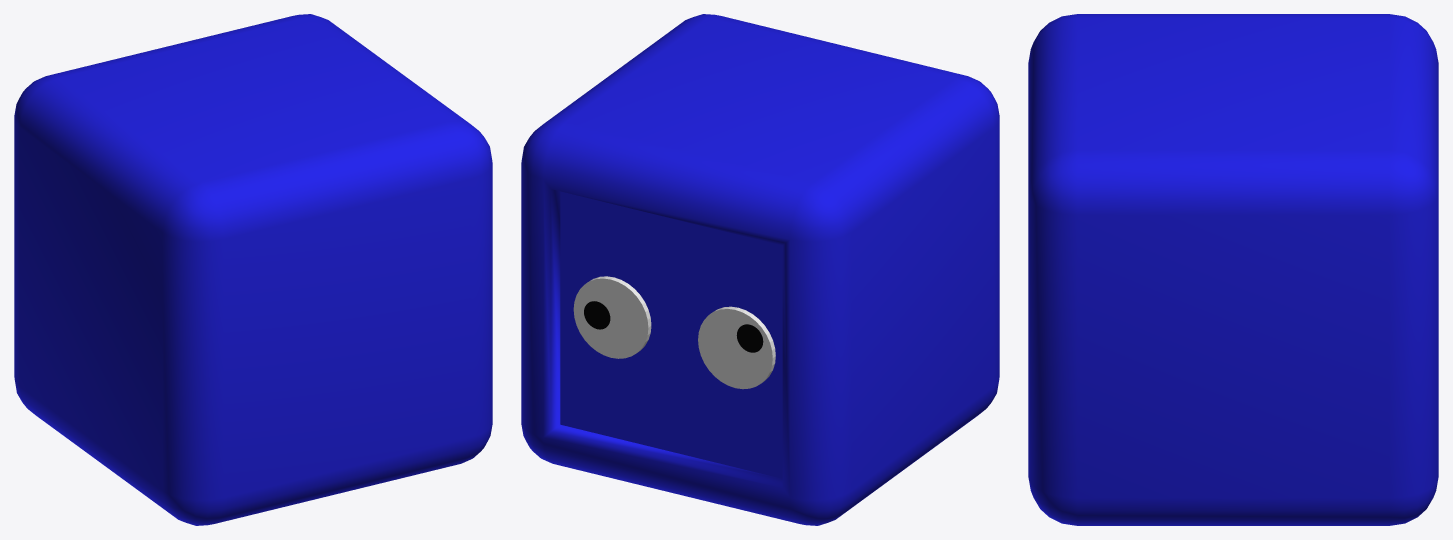
Rendered from PaffPlayer.fbx.
3 renders of one model, left to right at view 1: azimuth 30°, elevation 25°; view 2: azimuth 150°, elevation 25°; view 3: azimuth 270°, elevation 25°, orthographic. The views are drawn at different scales.
Visible parts, largest first — view 1: Cube; view 2: Cube; view 3: Cube.
Part boxes in pixels (x1,y1,x2,y2): Cube: [14, 14, 492, 525]; Cube: [521, 14, 999, 525]; Cube: [1028, 14, 1438, 525].
Bounding box in the file's own units: 200 × 200 × 200.
